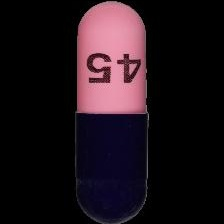61786-112: (0, 0, 224, 224)
